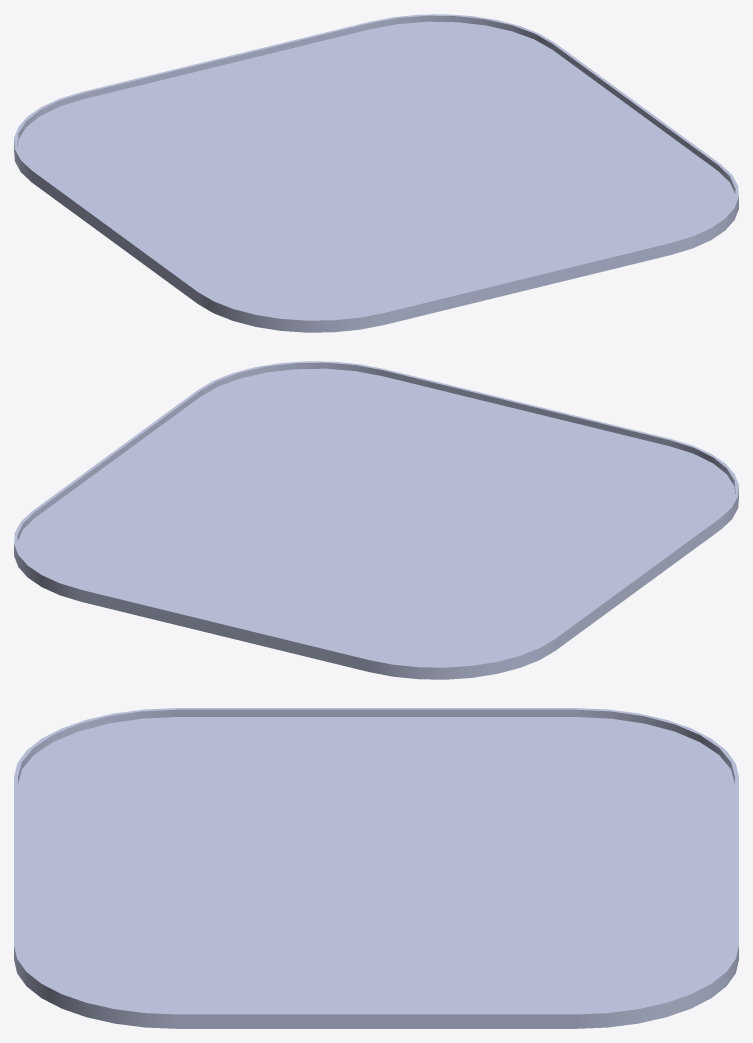
File: Chão_com_borda.fbx
3 renders of one model, top to bottom at view 1: azimuth 30°, elevation 25°; view 2: azimuth 150°, elevation 25°; view 3: azimuth 270°, elevation 25°, orthographic. The views are drawn at different scales.
Visible parts, largest first — view 1: Boss-Extrude1, Boss-Extrude2; view 2: Boss-Extrude1, Boss-Extrude2; view 3: Boss-Extrude1, Boss-Extrude2.
Boxes of the visible parts, box(x1,y1,x2,y2) form: Boss-Extrude1: box(18, 21, 734, 319); Boss-Extrude2: box(14, 14, 738, 332); Boss-Extrude1: box(18, 368, 734, 666); Boss-Extrude2: box(14, 361, 738, 679); Boss-Extrude1: box(18, 717, 734, 1012); Boss-Extrude2: box(14, 708, 738, 1028).
Size of the model in its own units: 9.1 by 0.2 by 9.1.
